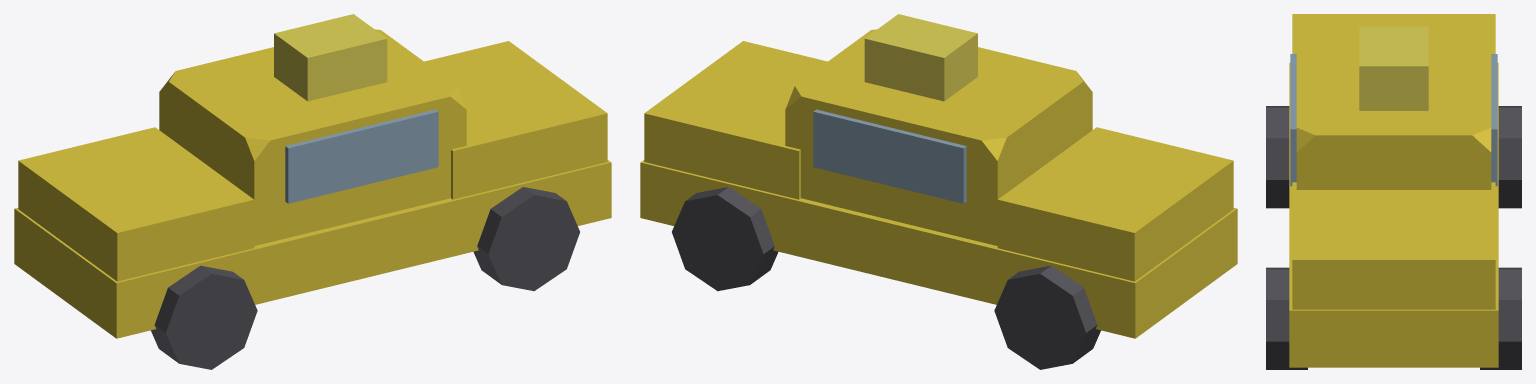
3 views of the same model, side by side, from view 1: azimuth 30°, elevation 25°; view 2: azimuth 150°, elevation 25°; view 3: azimuth 270°, elevation 25° (orthographic). The views are drawn at different scales.
Parts seen in each view (by area): view 1: part3, part0, part2, part1, part4, part9, part7, part5; view 2: part3, part0, part2, part1, part4, part8, part6, part5; view 3: part3, part1, part0, part5, part2, part6, part7, part8, part9, part4.
Boxes of the visible parts, bbox=[...] form: part3: bbox=[159, 29, 466, 245]; part0: bbox=[14, 160, 611, 338]; part2: bbox=[18, 127, 254, 281]; part1: bbox=[424, 41, 607, 199]; part4: bbox=[285, 109, 438, 203]; part9: bbox=[151, 265, 257, 369]; part7: bbox=[473, 187, 579, 291]; part5: bbox=[274, 14, 387, 101]; part3: bbox=[785, 29, 1092, 245]; part0: bbox=[640, 160, 1237, 338]; part2: bbox=[997, 127, 1233, 281]; part1: bbox=[644, 41, 827, 199]; part4: bbox=[813, 109, 966, 203]; part8: bbox=[994, 265, 1100, 369]; part6: bbox=[672, 187, 778, 291]; part5: bbox=[864, 14, 977, 101]; part3: bbox=[1296, 29, 1491, 189]; part1: bbox=[1292, 182, 1495, 309]; part0: bbox=[1289, 62, 1498, 367]; part5: bbox=[1359, 26, 1428, 110]; part2: bbox=[1292, 14, 1495, 53]; part6: bbox=[1480, 267, 1521, 369]; part7: bbox=[1266, 267, 1307, 369]; part8: bbox=[1498, 106, 1521, 208]; part9: bbox=[1266, 106, 1289, 208]; part4: bbox=[1290, 54, 1497, 186].
Bounding box in the file's own units: 5.6 × 2.64 × 2.44.
